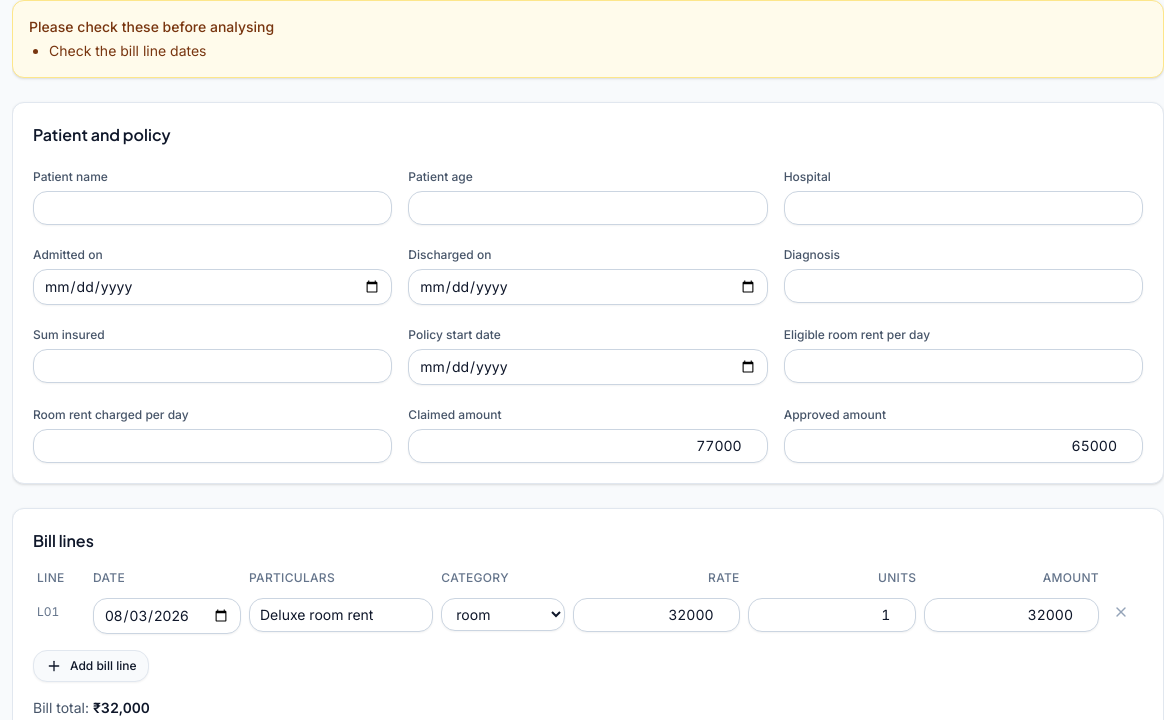
Test: CaseConfirmForm › keeps Analyse disabled when the approved amount is above the claimed amount
Replace the text in the number field labelled "Approved amount" with "80000": (963, 446) [784,429,1143,463]
(page scrolled)
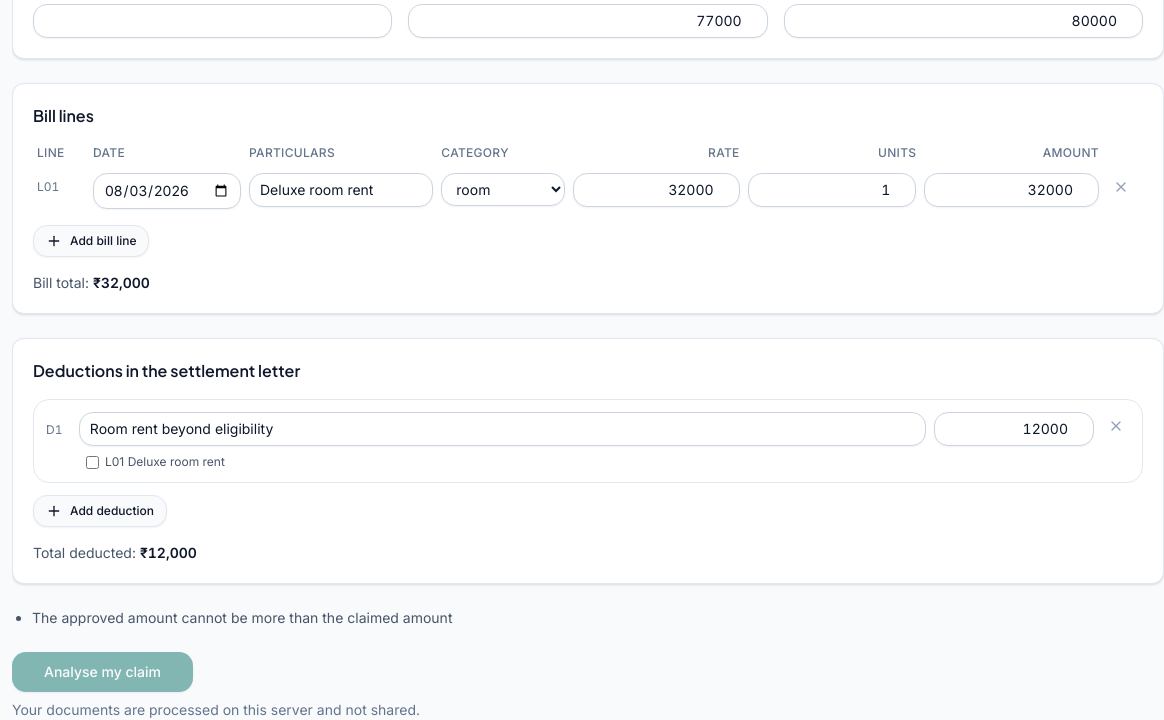
Now the button "Analyse my claim" is disabled, box [12,652,193,692]
Now the list item "The approved amount cannot be more than the claimed amount" is shown, box [32,609,452,626]
